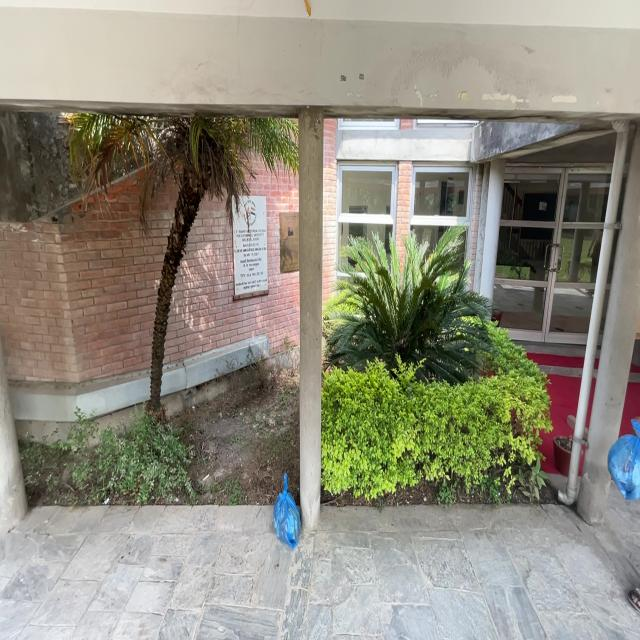carryload: (604, 408, 640, 521)
garbage: (264, 470, 315, 550)
